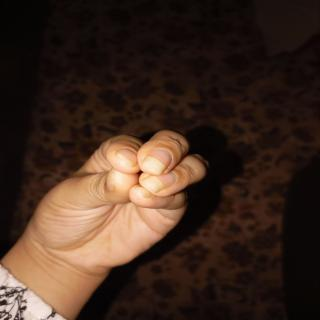HA: (26, 115, 214, 281)
